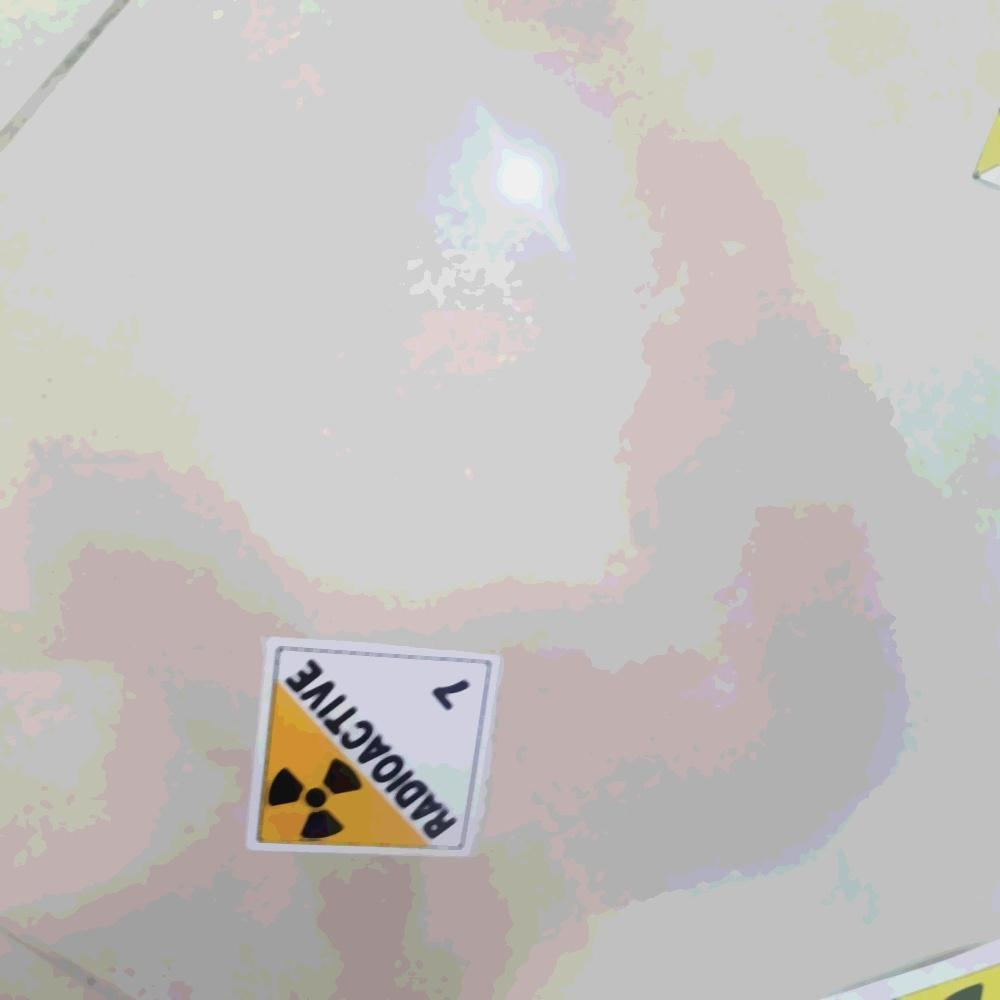radioactive: (249, 638, 496, 858)
